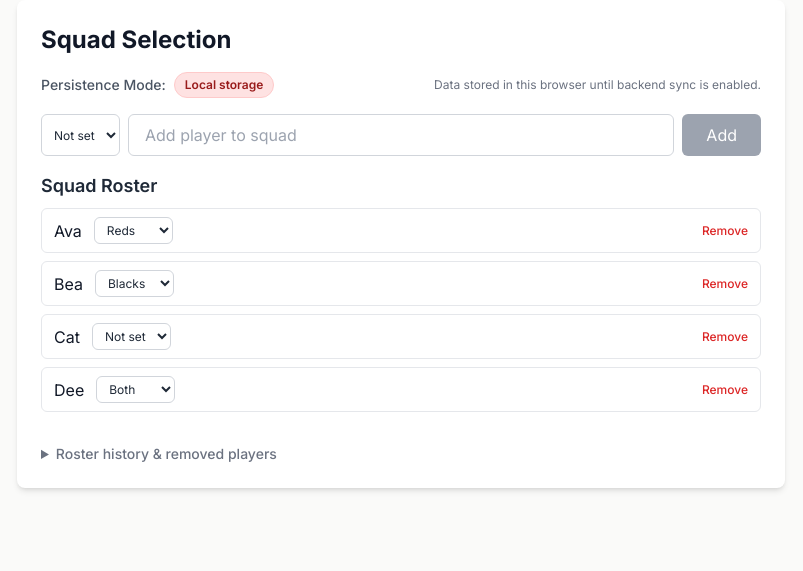
Test: PlayerInput › squads › shows an error and keeps the old tag if saving a tag fails
This screenshot has width=803, height=571.
Select "Blacks" in the dropdown named "Squad for Ava" at (133, 230), box left=94, top=217, right=173, bottom=244
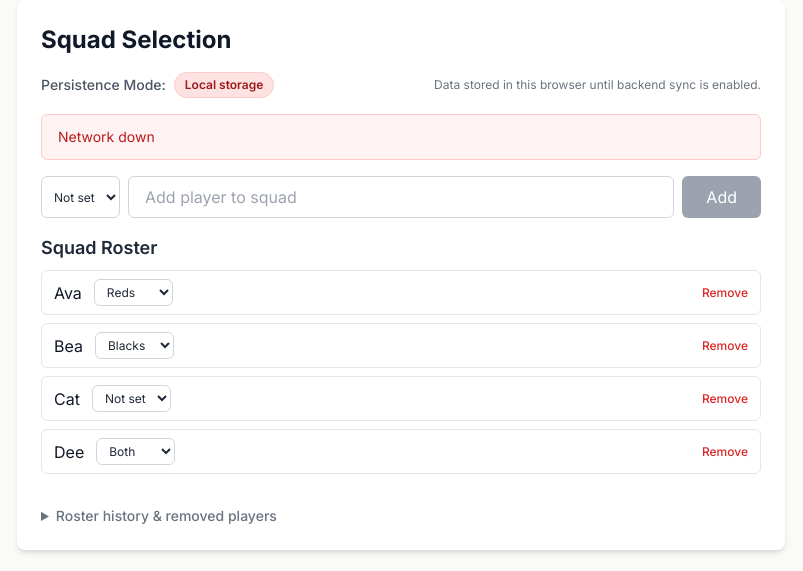
Expected: the text "Network down" is shown, left=41, top=114, right=761, bottom=160
